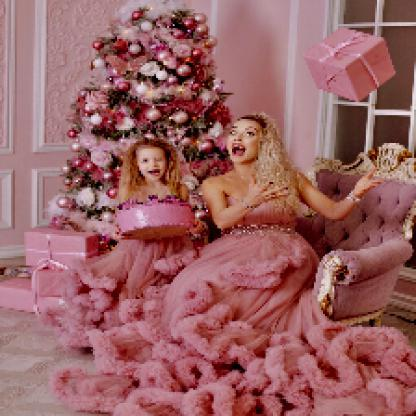child: (85, 139, 197, 301)
